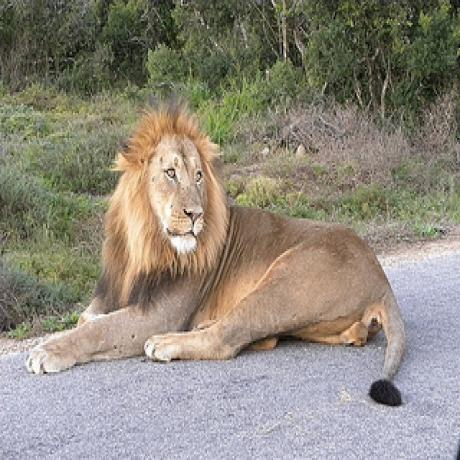Lion: (27, 106, 403, 402)
